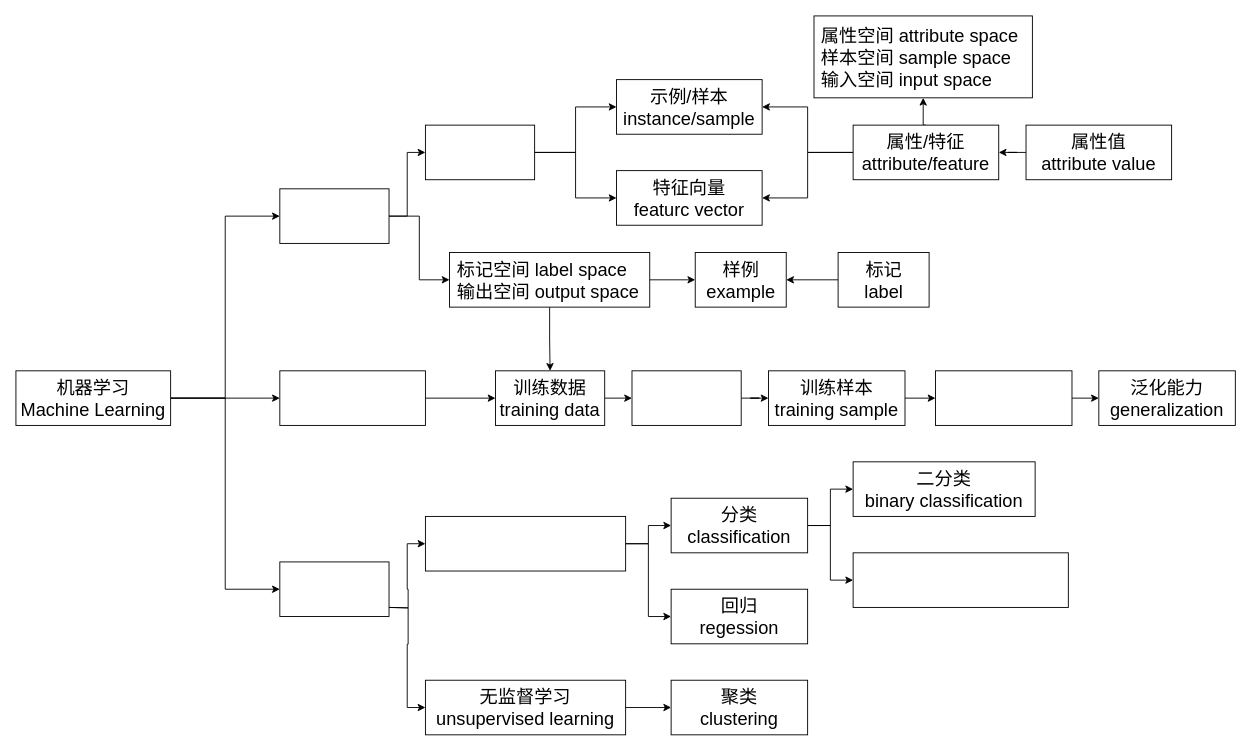
Some shapes in this 1251 by 751 pixel diagram are drawn without their labels. The centre of each missing label's shape, as x and y in pixels:
"多分类 multi-class classification" goes at [960,579].
"学习/训练 learning/training" goes at [352,397].
"数据 data" goes at [334,215].
"数据集 data set" goes at [480,152].
"模型 model" goes at [334,589].
"测试 testing" goes at [1003,397].
"监督学习 supervised learning" goes at [525,543].
"训练集 training set" goes at [686,397].
